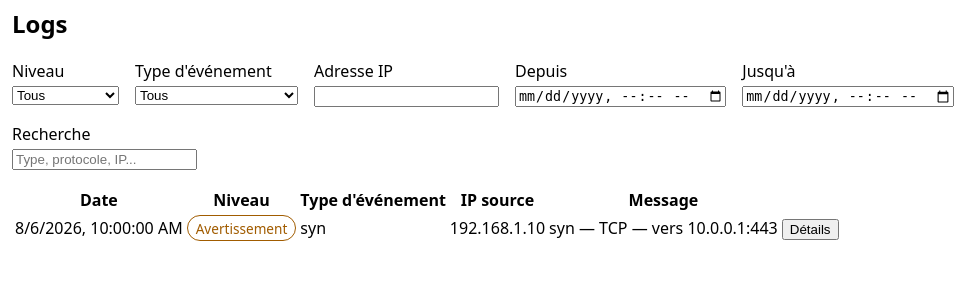
Scenario: LogsPage › affiche un message d'erreur si la consultation du detail echoue
Expected: the text "syn" is shown, [299,214,447,242]
Click the button "Détails". click: (810, 229)
box: [782,218,839,240]
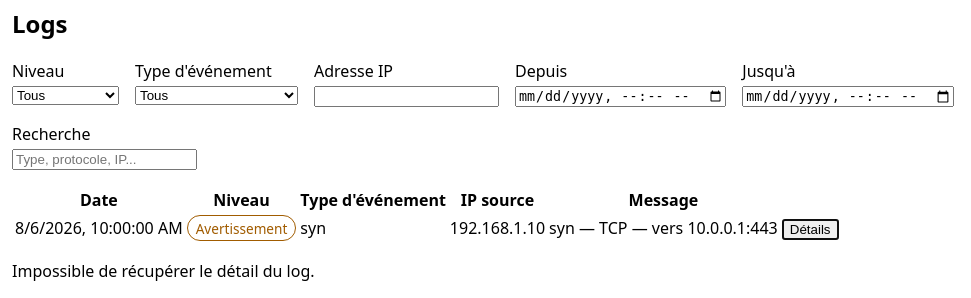
Now the message shows "Impossible de récupérer le détail du log", box [12,260,314,282]
